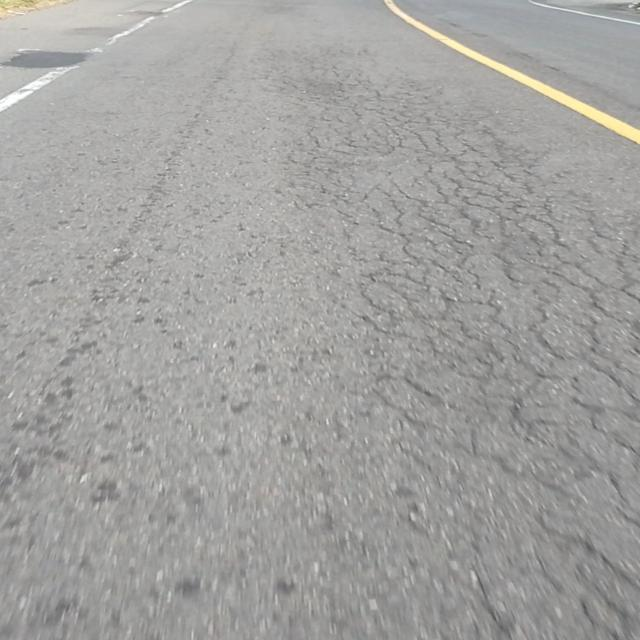Retak Buaya: (289, 75, 640, 640)
